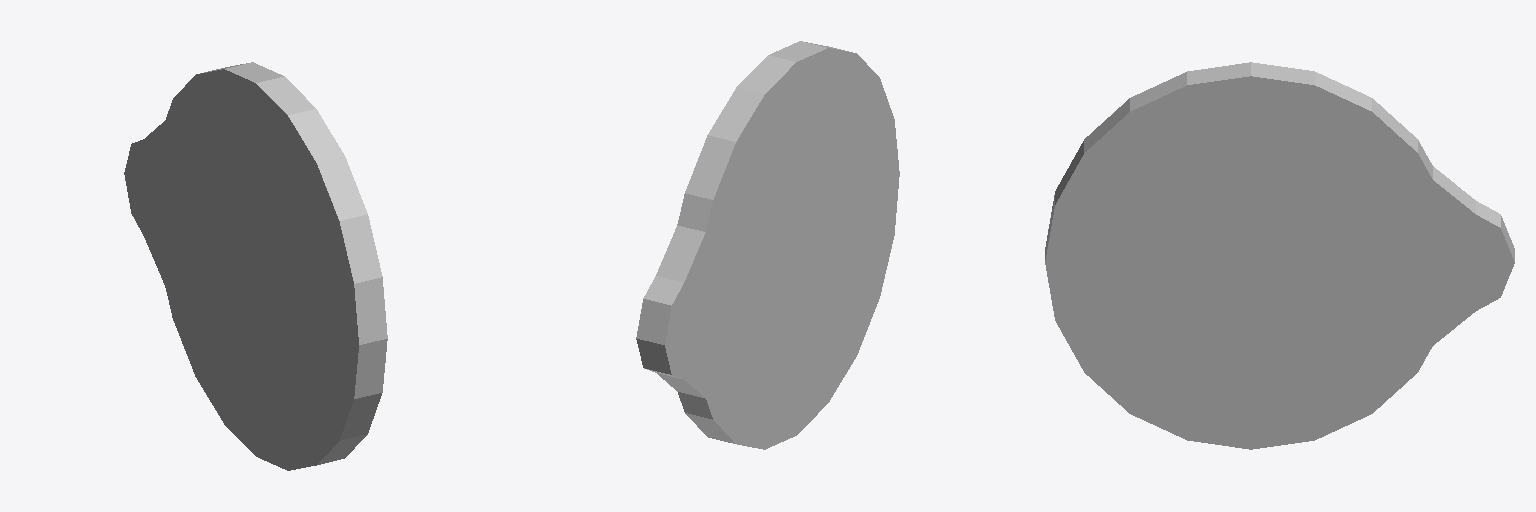
The model's file is racket_body.obj.
3 renders of one model, left to right at view 1: azimuth 30°, elevation 25°; view 2: azimuth 150°, elevation 25°; view 3: azimuth 270°, elevation 25°, orthographic.
Size of the model in its own units: 0.012 by 0.15 by 0.171.